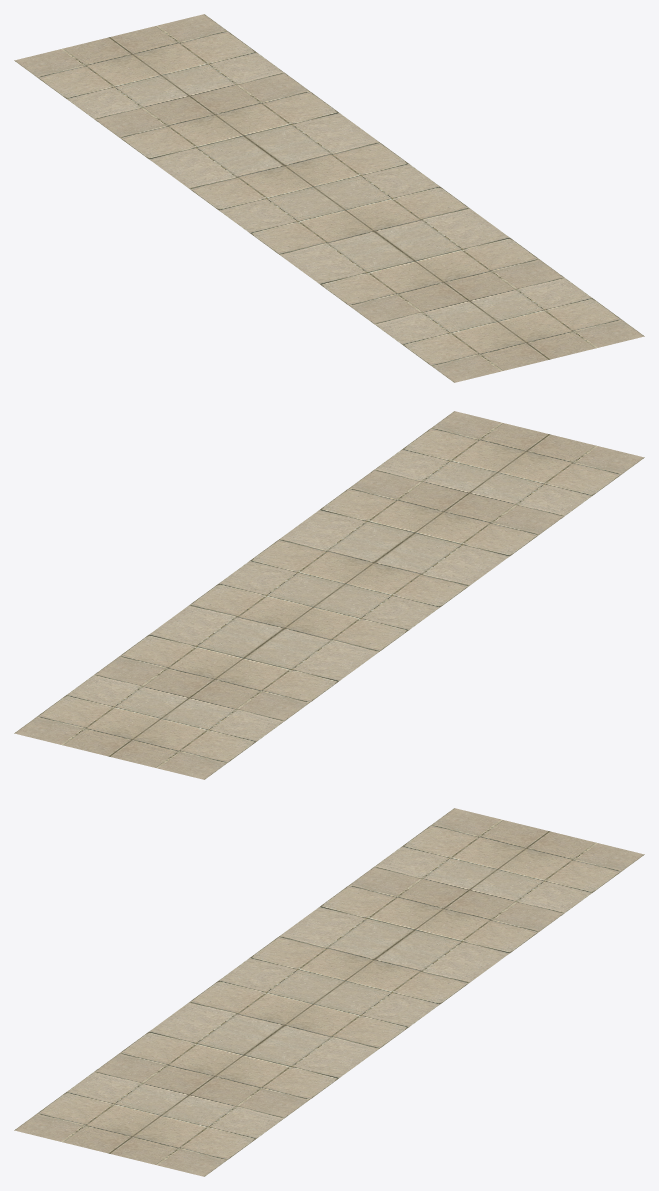
File: dungeon_Tile_01_Wall_Additional.fbx
3 renders of one model, top to bottom at view 1: azimuth 30°, elevation 25°; view 2: azimuth 150°, elevation 25°; view 3: azimuth 330°, elevation 25°, orthographic.
Visible parts, largest first — view 1: dungeon_Tile_01_Wall_Additional; view 2: dungeon_Tile_01_Wall_Additional; view 3: dungeon_Tile_01_Wall_Additional.
Boxes of the visible parts, x1,y1,x2,y2 form: dungeon_Tile_01_Wall_Additional: (14, 14, 644, 382); dungeon_Tile_01_Wall_Additional: (14, 411, 644, 779); dungeon_Tile_01_Wall_Additional: (14, 808, 644, 1176).
Bounding box in the file's own units: 29.97 × 0 × 120.
